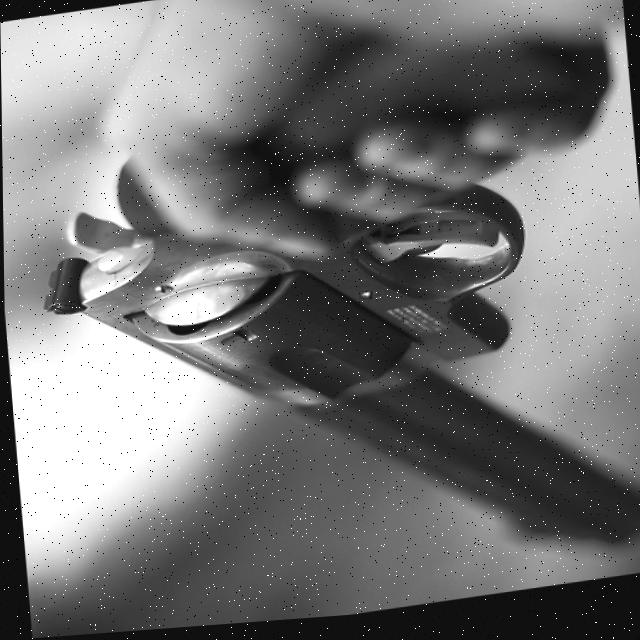pistol: (11, 8, 640, 632)
